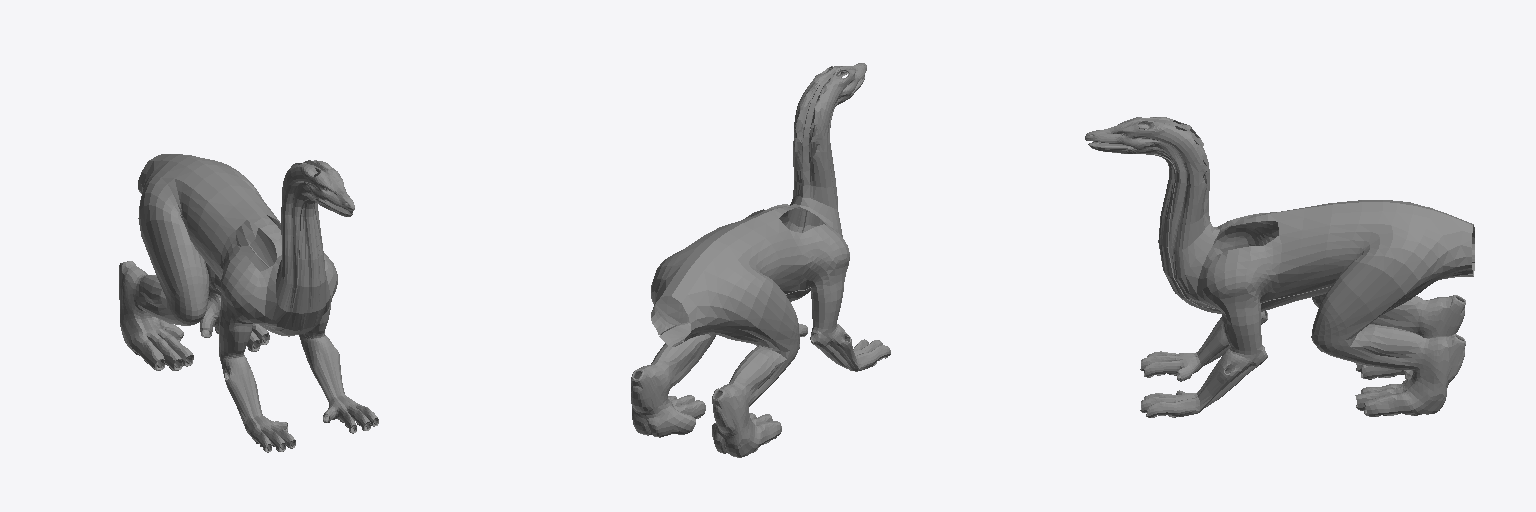
File: dragon_body_no_tail.obj
3 views of the same model, side by side, from view 1: azimuth 30°, elevation 25°; view 2: azimuth 150°, elevation 25°; view 3: azimuth 270°, elevation 25° (orthographic).
Visible parts, largest first — view 1: Cube.001_Cube.006; view 2: Cube.001_Cube.006; view 3: Cube.001_Cube.006.
Part boxes in pixels (left/top/right/bottom): Cube.001_Cube.006: left=119, top=154, right=378, bottom=452; Cube.001_Cube.006: left=631, top=63, right=890, bottom=457; Cube.001_Cube.006: left=1085, top=117, right=1474, bottom=417.
Bounding box in the file's own units: 2.16 × 4.84 × 6.27.